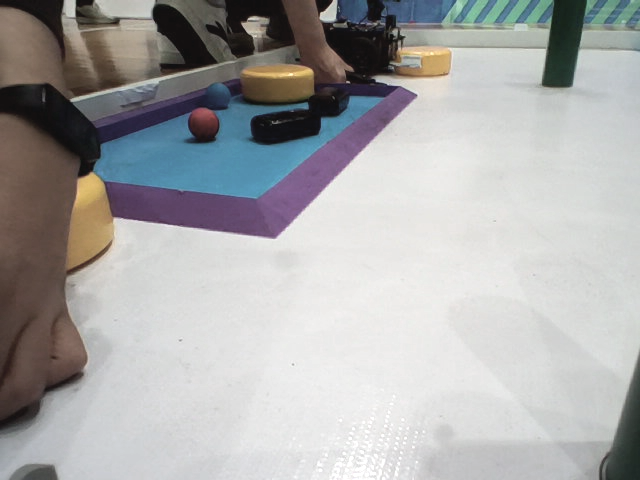black: (247, 110, 325, 139), (314, 80, 356, 116)
blue: (202, 79, 234, 112)
kuang: (54, 74, 423, 250)
red: (183, 105, 219, 140)
yellow: (1, 165, 134, 277), (240, 62, 318, 100), (394, 39, 456, 77)
zhuzi: (593, 344, 640, 480), (538, 1, 586, 99)
